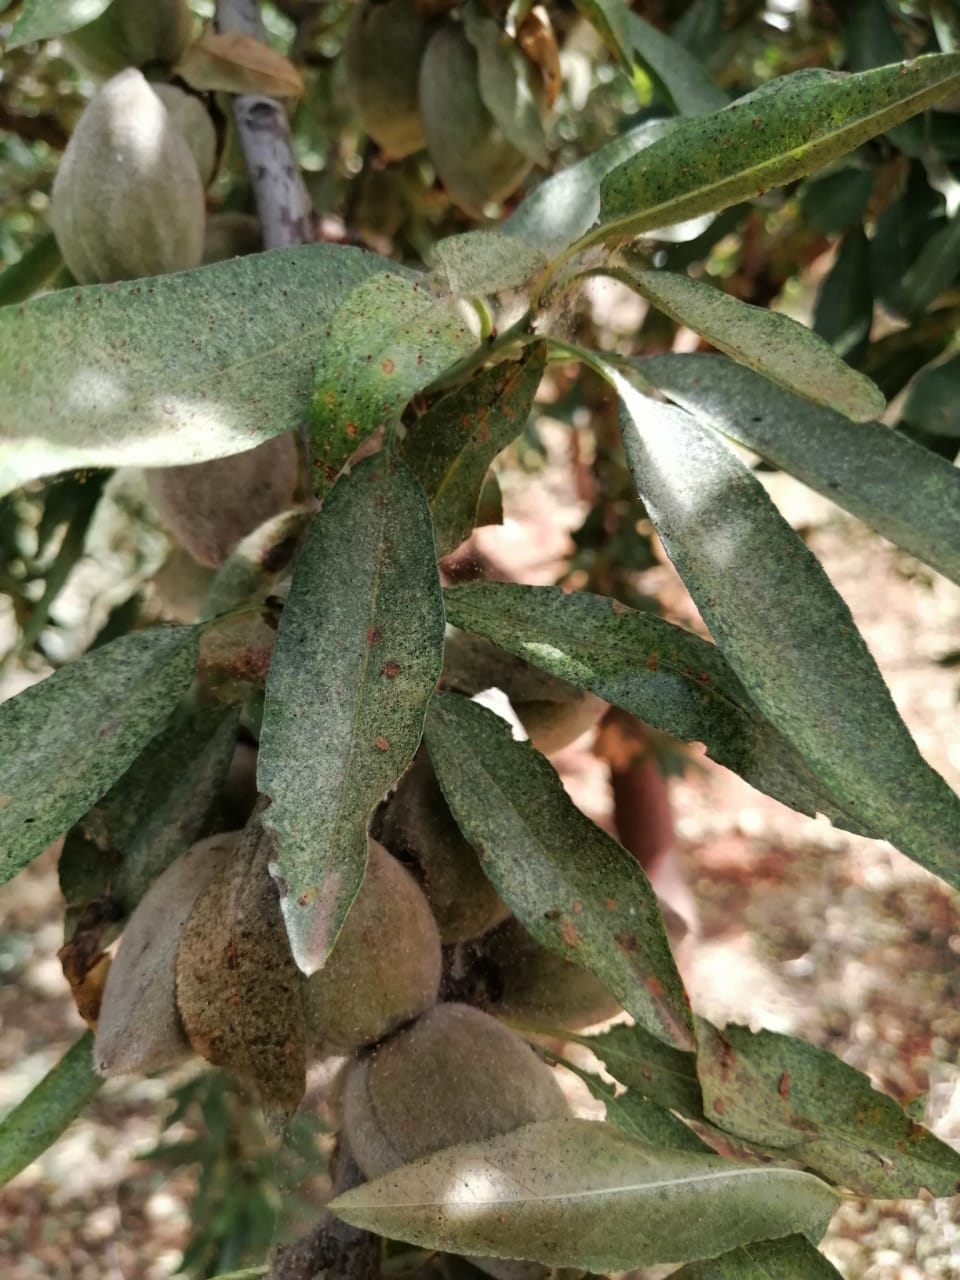acariens: (615, 380, 960, 877), (1, 237, 432, 494), (253, 444, 444, 979), (319, 1118, 840, 1265), (630, 353, 960, 585), (1, 617, 202, 892), (601, 264, 894, 427), (305, 271, 484, 496)
